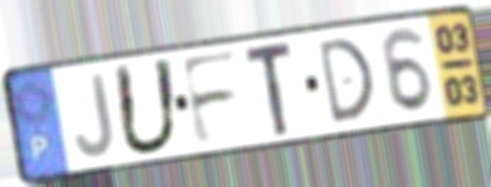6: (379, 24, 437, 117)
D: (315, 34, 377, 128)
F: (177, 47, 241, 150)
J: (72, 70, 118, 160)
T: (243, 37, 296, 141)
U: (110, 55, 183, 159)
